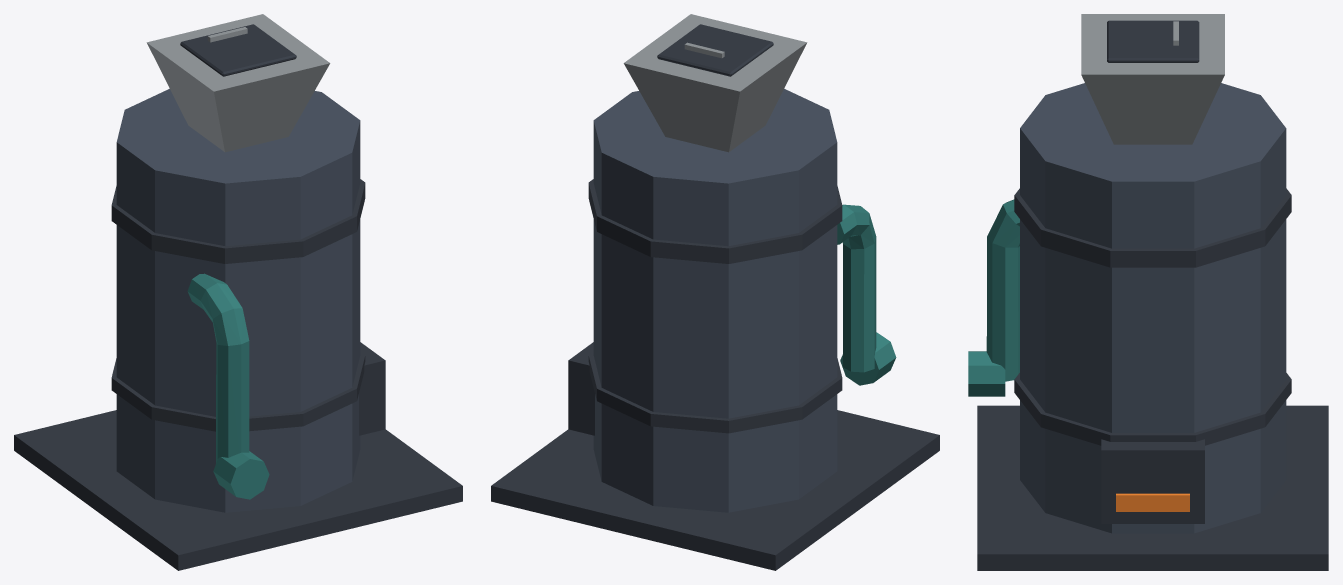
File: wood_gasifier.obj
The picture shows the model from 3 angles, left to right: view 1: azimuth 30°, elevation 25°; view 2: azimuth 150°, elevation 25°; view 3: azimuth 270°, elevation 25°; orthographic projection. The views are drawn at different scales.
Visible parts, largest first — view 1: body; view 2: body; view 3: body.
Boxes of the visible parts, left/top/right/bottom form: body: left=14, top=14, right=462, bottom=570; body: left=491, top=14, right=939, bottom=570; body: left=968, top=14, right=1328, bottom=570.
Bounding box in the file's own units: 1.9 × 2.78 × 1.95.
